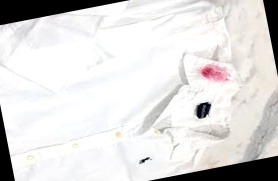lipstick: (196, 54, 232, 89)
